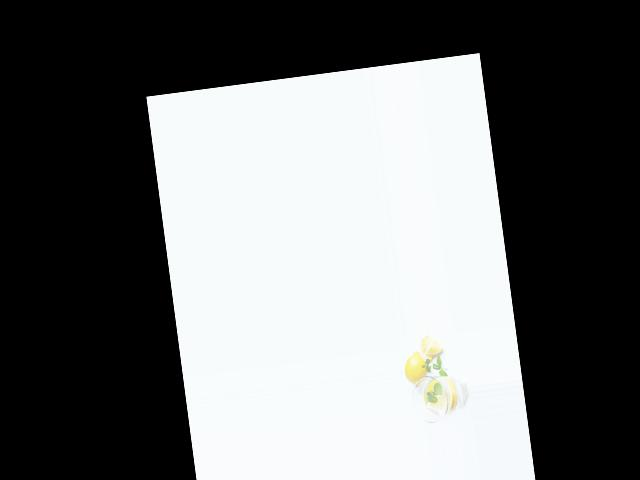lemon: (401, 350, 432, 391)
